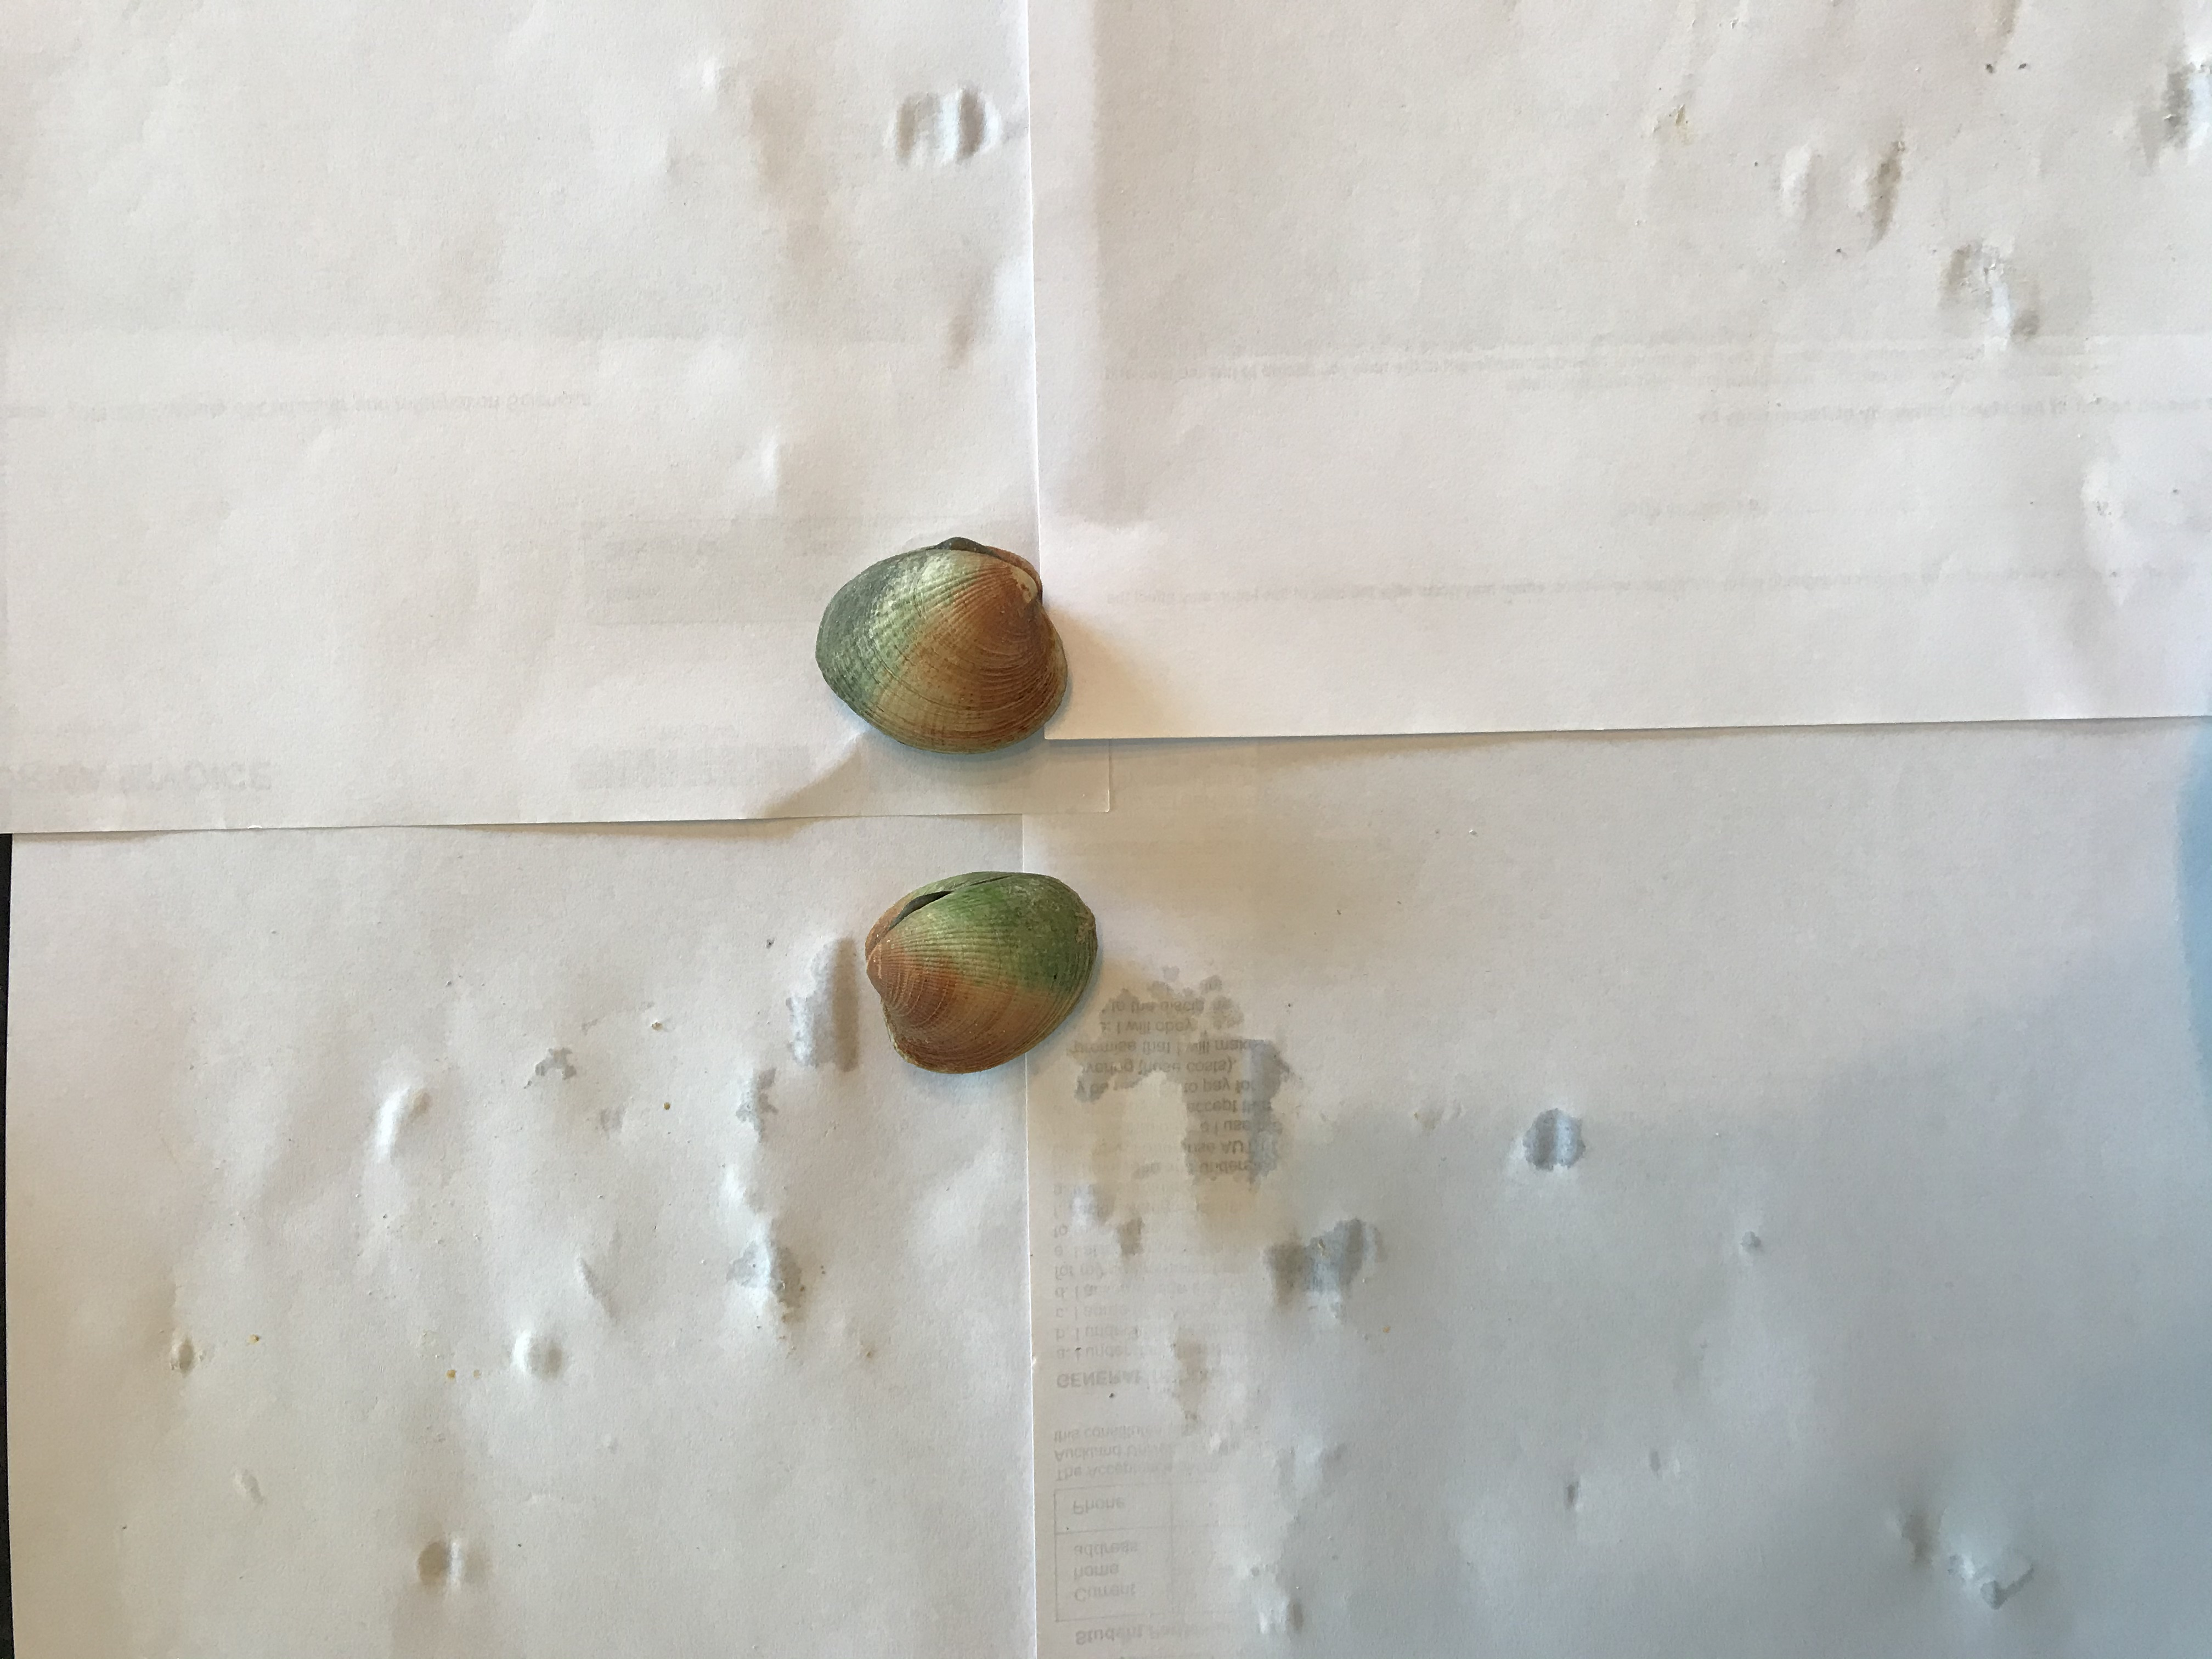cockle: (808, 532, 1076, 751), (862, 866, 1106, 1077)
